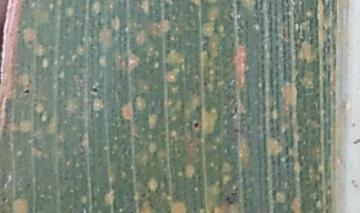tarspot: (225, 190, 240, 207), (88, 86, 101, 95), (191, 120, 201, 130), (23, 87, 32, 95), (233, 127, 240, 135), (202, 79, 209, 86)
